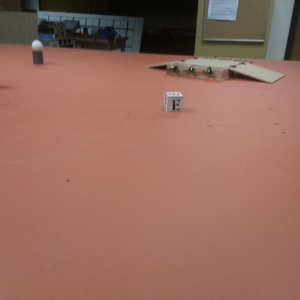obstacle: (31, 41, 45, 66)
side: (166, 62, 229, 84)
slope: (231, 63, 286, 85), (147, 59, 167, 72)
